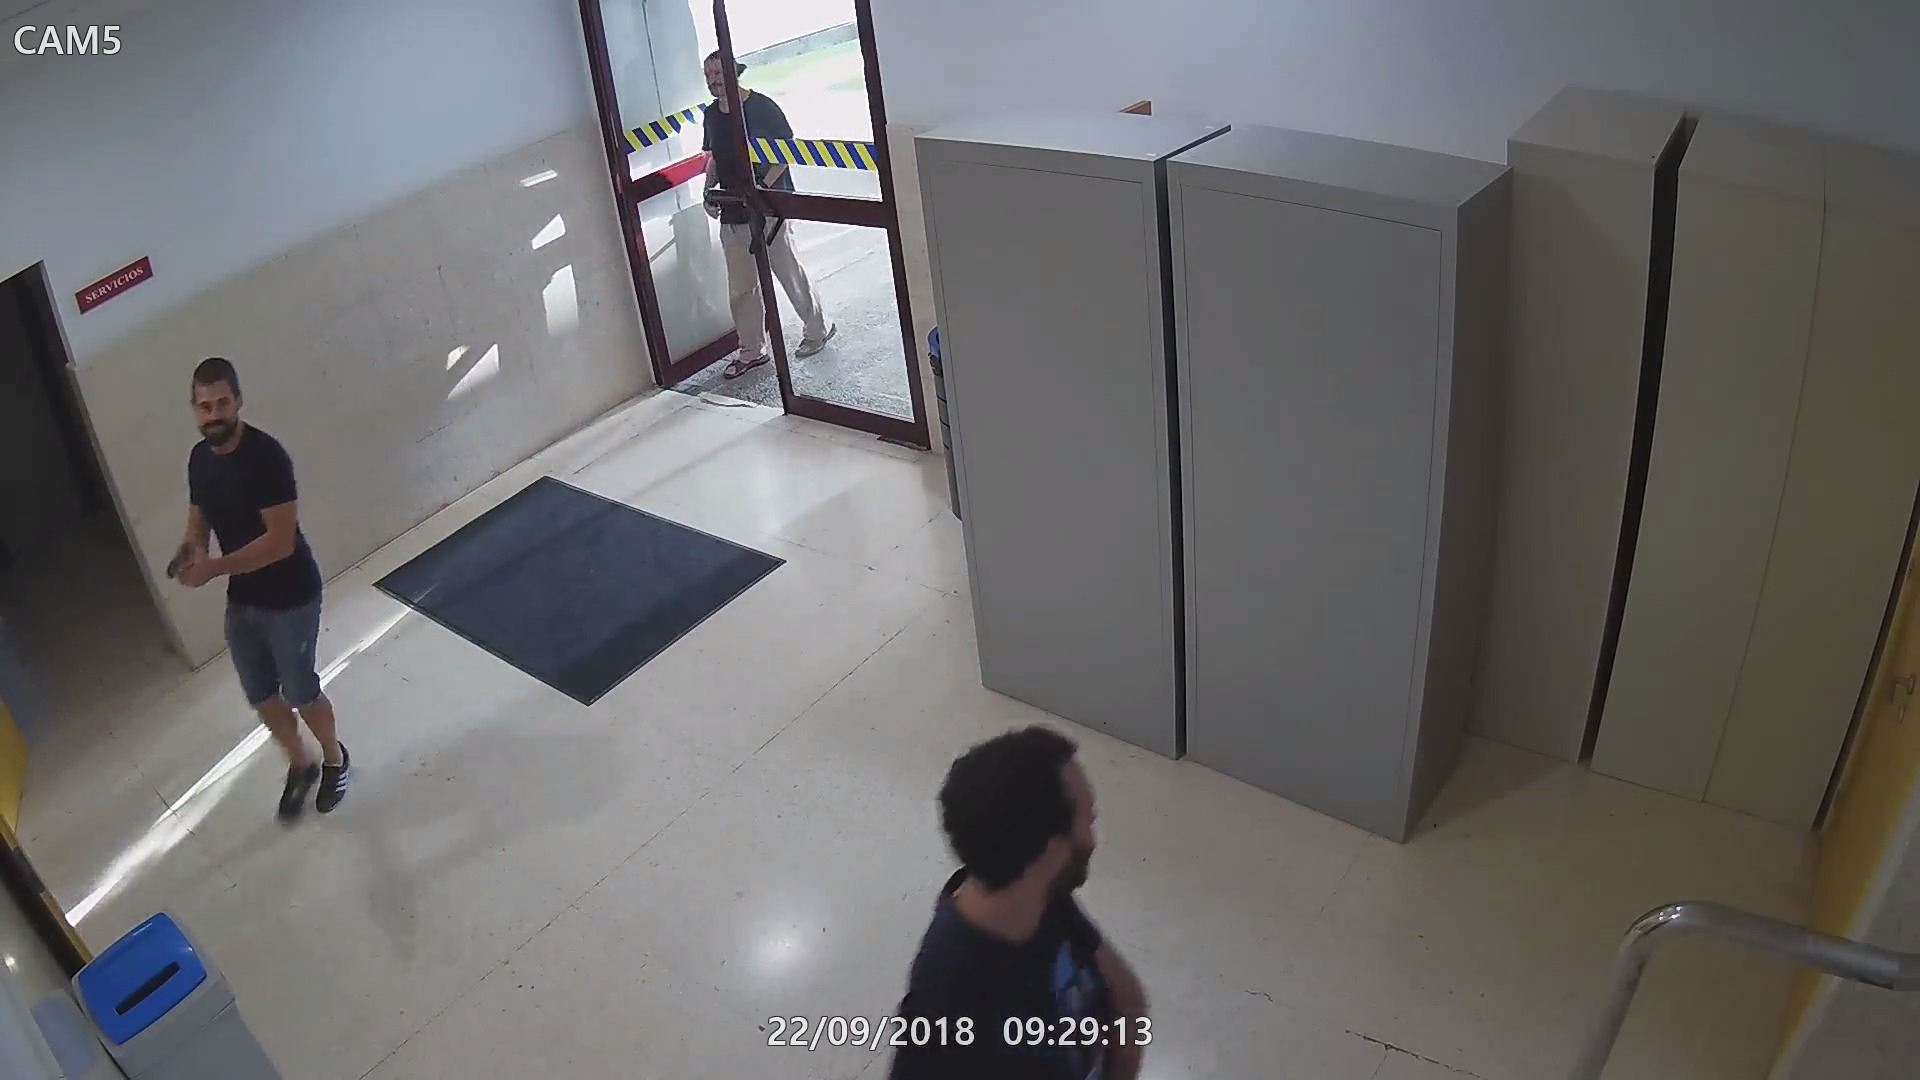Handgun: (161, 531, 204, 593)
Short_rifle: (695, 182, 781, 224)
